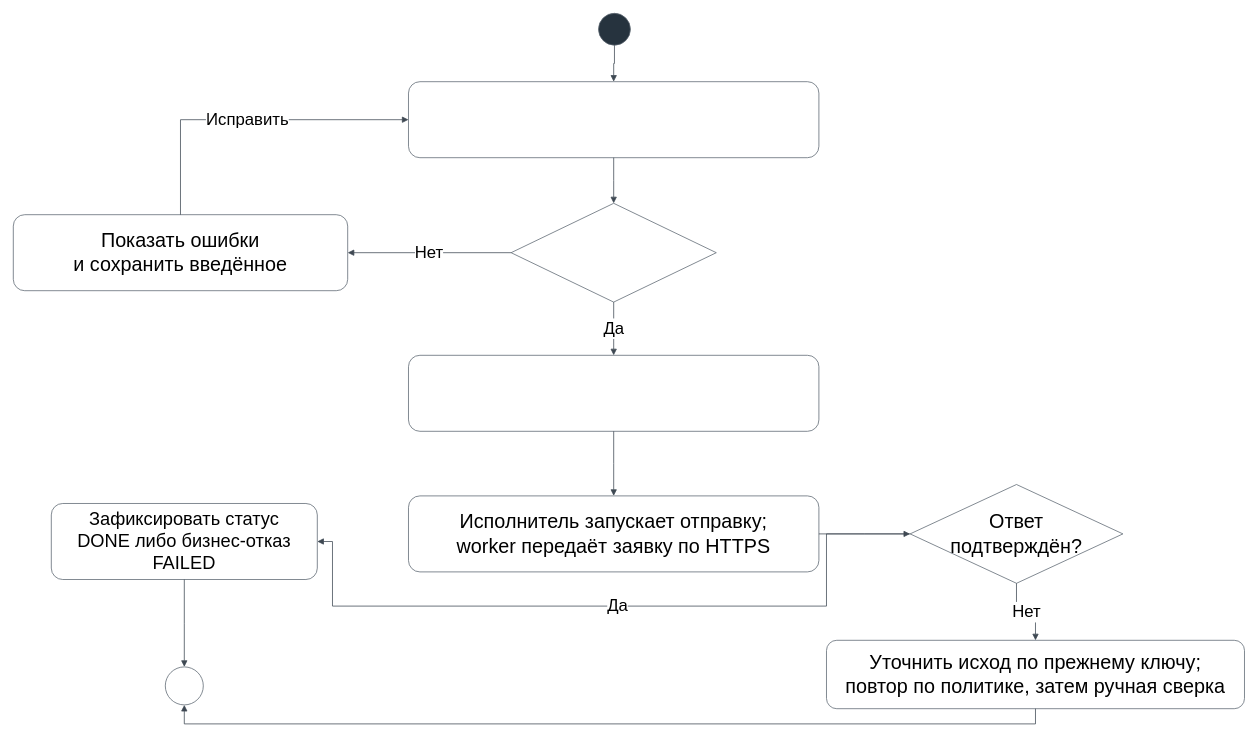
Image size: 1258x743. Some labels were removed from this diagram. Each missing label, with the box of its shape:
Данные корректны?: (510, 203, 716, 302)
Открыть согласованное предложение и ввести подписанный договор: (408, 81, 819, 158)
Создать CONNECT и integration_job в одной транзакции: (408, 355, 819, 431)
